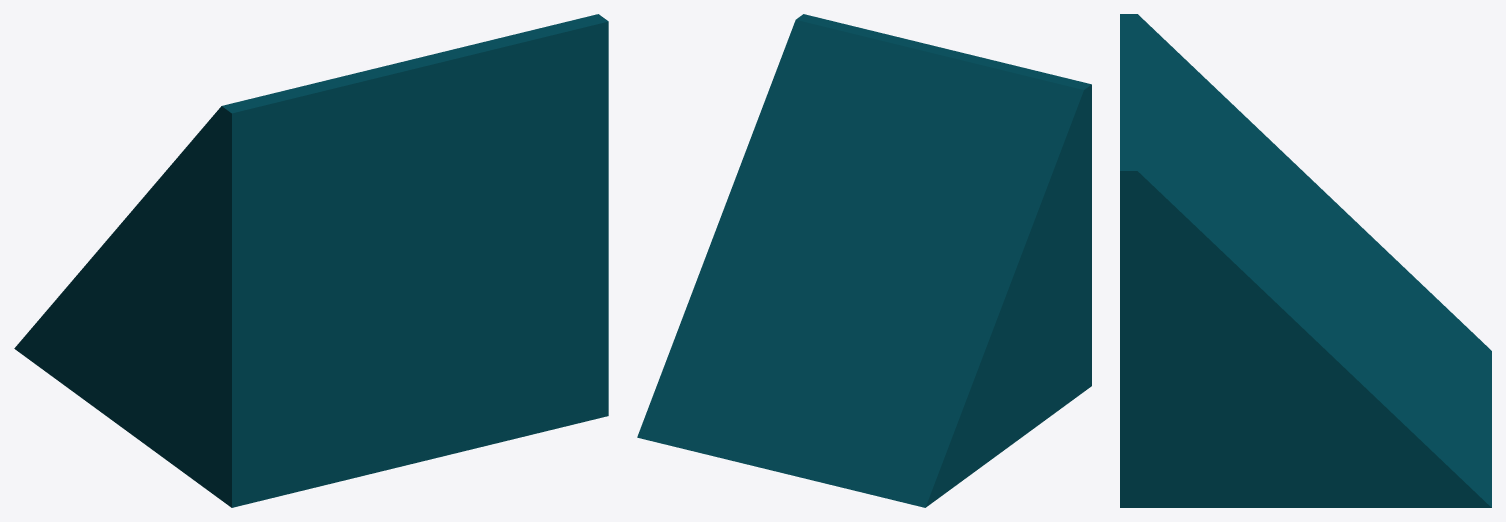
The model's file is Biom_Ruinen_SchiefeEbene.fbx.
The picture shows the model from 3 angles, left to right: view 1: azimuth 30°, elevation 25°; view 2: azimuth 150°, elevation 25°; view 3: azimuth 270°, elevation 25°; orthographic projection. The views are drawn at different scales.
Parts seen in each view (by area): view 1: Schiefe Ebene; view 2: Schiefe Ebene; view 3: Schiefe Ebene.
Boxes of the visible parts, bbox=[...] form: Schiefe Ebene: bbox=[14, 14, 608, 507]; Schiefe Ebene: bbox=[637, 14, 1091, 507]; Schiefe Ebene: bbox=[1120, 14, 1491, 507].
Bounding box in the file's own units: 100 × 100 × 100.
